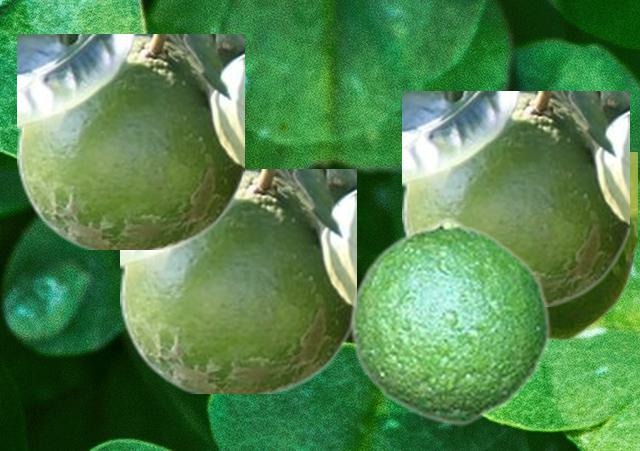dalandan: (120, 169, 355, 392), (402, 91, 628, 305), (17, 34, 243, 248), (348, 216, 550, 425), (550, 152, 636, 339)
